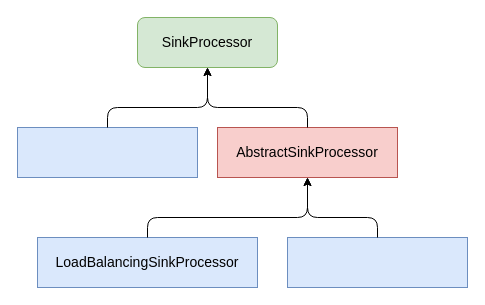
This 485x305 diagram has some shape labels left out. The shapes that lost their labels are listed below. From the top down, each one's box as (x1, y1, x2, y2) in pixels, then its label:
(16, 126, 198, 178): DefaultSinkProcessor
(286, 236, 468, 288): FailoverSinkProcessor
